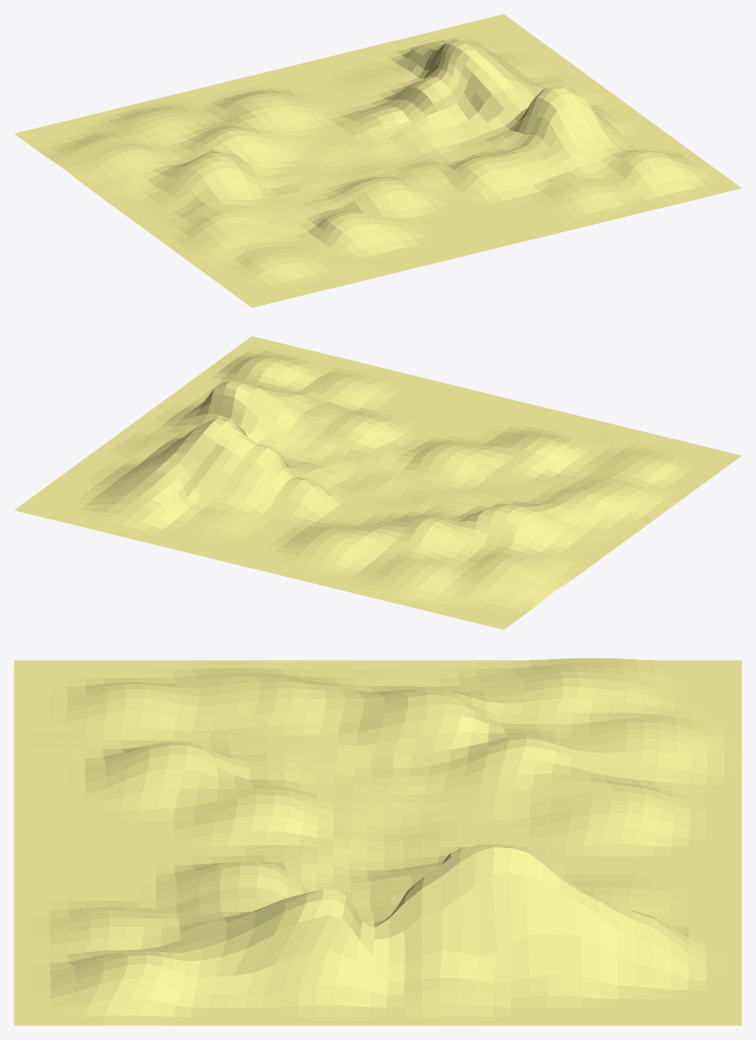
File: area_map.glb
3 renders of one model, top to bottom at view 1: azimuth 30°, elevation 25°; view 2: azimuth 150°, elevation 25°; view 3: azimuth 270°, elevation 25°, orthographic. The views are drawn at different scales.
Visible parts, largest first — view 1: Area; view 2: Area; view 3: Area.
Boxes of the visible parts, x1,y1,x2,y2 form: Area: (14,14,741,307); Area: (14,336,741,629); Area: (14,658,741,1025).
Bounding box in the file's own units: 120 × 14.51 × 101.
1 material, 1 textured.
